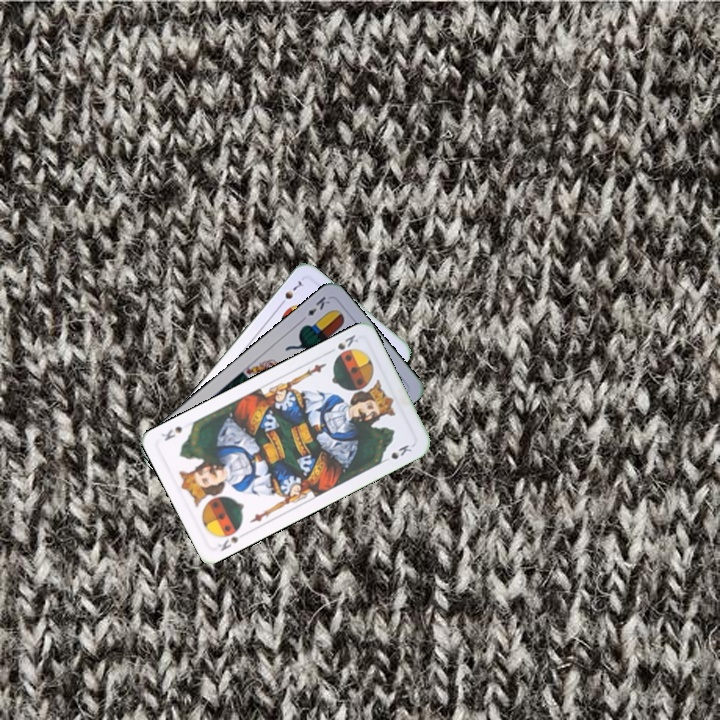EK: (297, 292, 333, 325)
S7: (275, 277, 307, 309)
SK: (213, 528, 250, 554), (333, 330, 361, 353)
